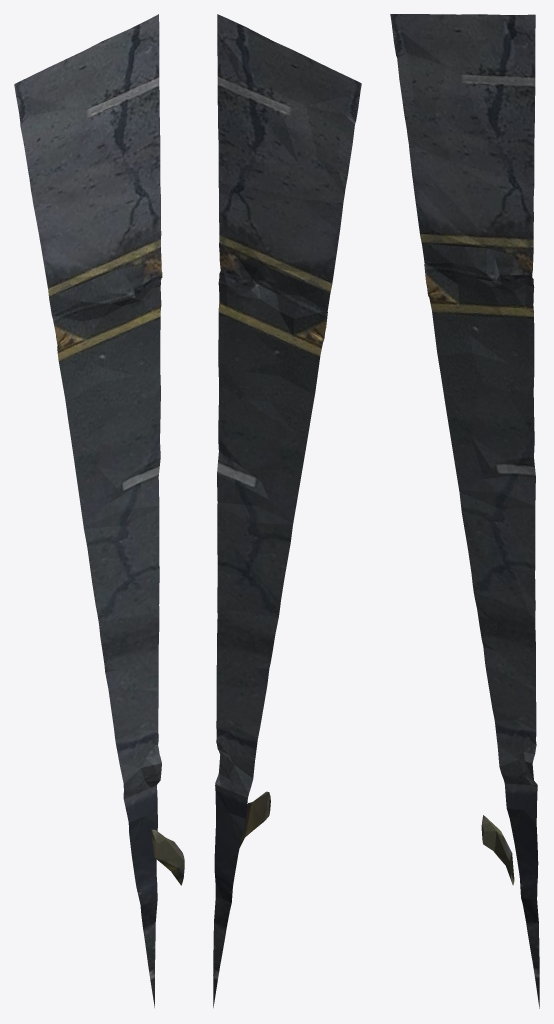
Rendered from piece4.obj.
3 renders of one model, left to right at view 1: azimuth 30°, elevation 25°; view 2: azimuth 150°, elevation 25°; view 3: azimuth 330°, elevation 25°, orthographic.
Bounding box in the file's own units: 3.05 × 20.08 × 1.09.
